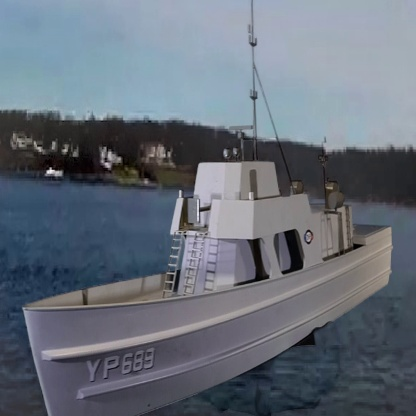YP689: (22, 0, 394, 416)
